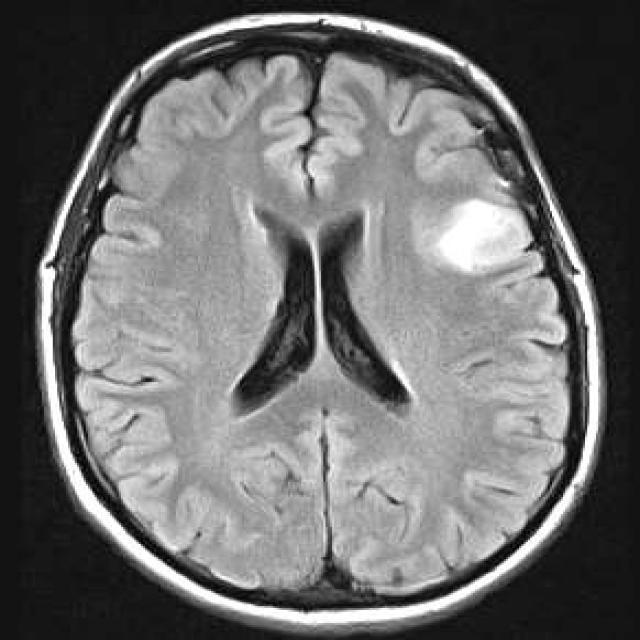Tumor: (432, 192, 540, 283)
